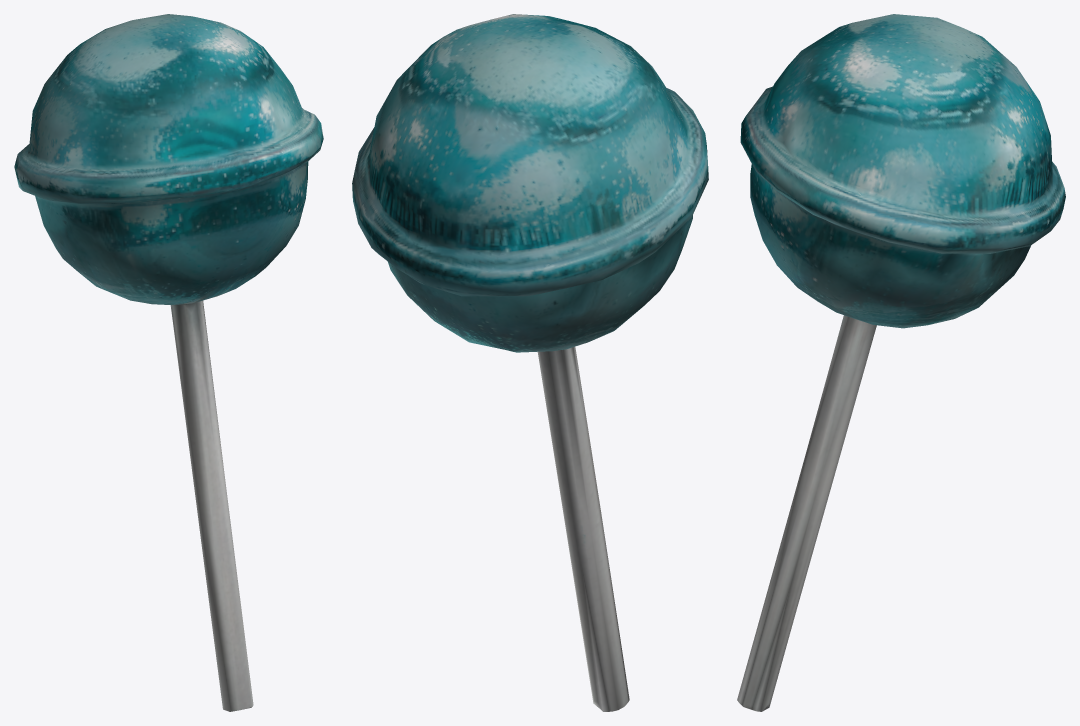
File: Food_Candy.fbx
The picture shows the model from 3 angles, left to right: view 1: azimuth 30°, elevation 25°; view 2: azimuth 150°, elevation 25°; view 3: azimuth 270°, elevation 25°; orthographic projection. The views are drawn at different scales.
Visible parts, largest first — view 1: Food_Candy; view 2: Food_Candy; view 3: Food_Candy.
Boxes of the visible parts, box(x1,y1,x2,y2) form: Food_Candy: box(14, 14, 323, 711); Food_Candy: box(352, 14, 708, 711); Food_Candy: box(737, 14, 1065, 711).
Size of the model in its own units: 0.26 by 0.5831 by 0.2571.
Materials: 1 (1 with a texture image).
